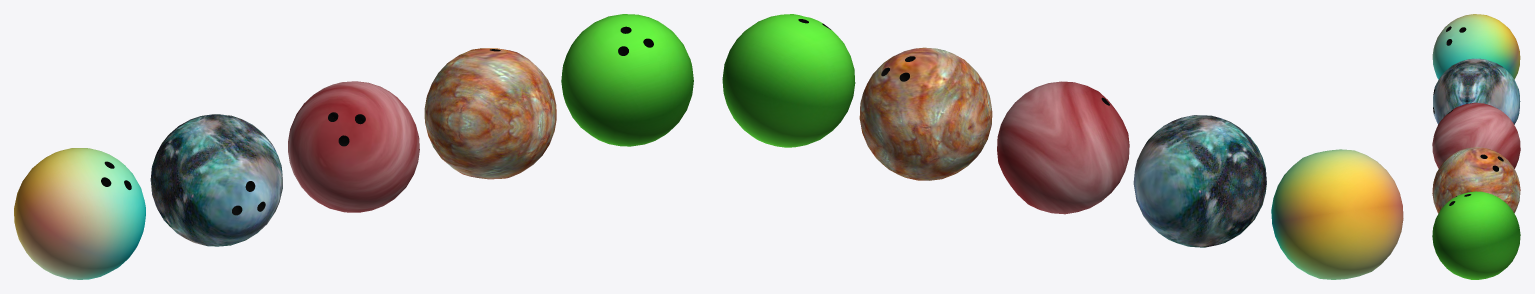
Rendered from bowl_balls.glb.
3 renders of one model, left to right at view 1: azimuth 30°, elevation 25°; view 2: azimuth 150°, elevation 25°; view 3: azimuth 270°, elevation 25°, orthographic. The views are drawn at different scales.
Visible parts, largest first — view 1: ball5, ball2, ball4, ball1, ball3; view 2: ball5, ball4, ball2, ball3, ball1; view 3: ball5, ball2, ball4, ball3, ball1.
Part boxes in pixels (x1,y1,x2,y2): ball5: [561, 14, 693, 146]; ball2: [150, 114, 282, 246]; ball4: [424, 48, 556, 179]; ball1: [14, 148, 145, 279]; ball3: [288, 81, 419, 212]; ball5: [722, 14, 855, 147]; ball4: [859, 47, 992, 180]; ball2: [1133, 115, 1266, 247]; ball3: [997, 81, 1129, 214]; ball1: [1271, 149, 1403, 279]; ball5: [1432, 191, 1520, 279]; ball2: [1433, 58, 1520, 124]; ball4: [1432, 147, 1520, 213]; ball3: [1432, 102, 1520, 168]; ball1: [1432, 14, 1520, 79].
Bounding box in the file's own units: 1.26 × 0.2181 × 0.2182.
2 materials, 2 textured.
